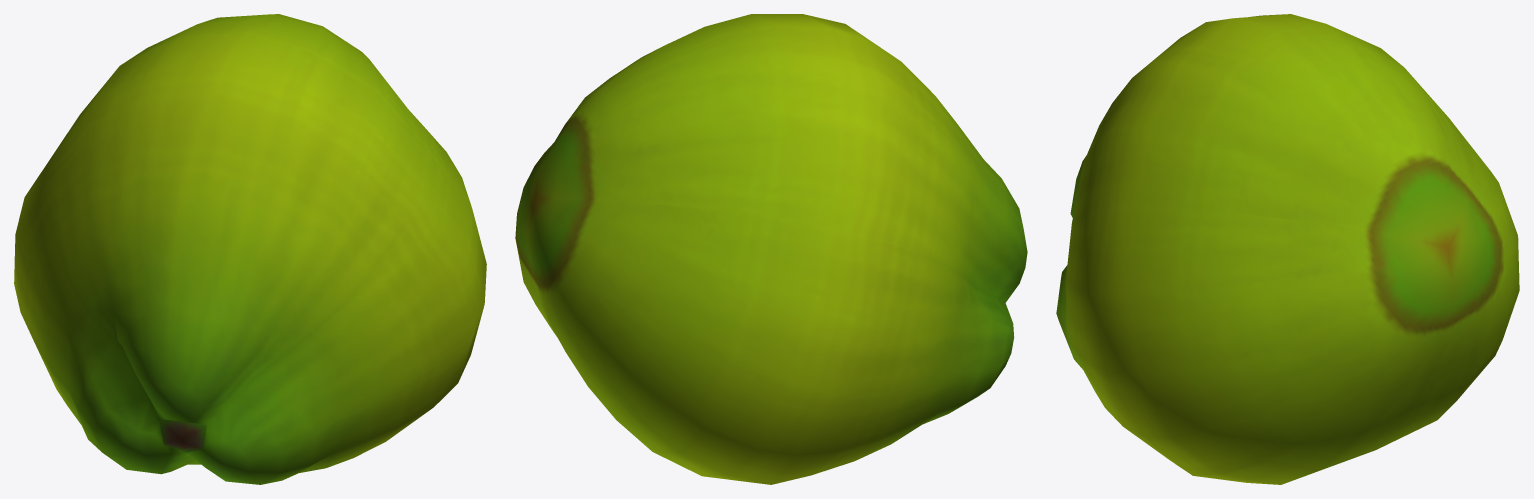
The model's file is coconut.glb.
3 renders of one model, left to right at view 1: azimuth 30°, elevation 25°; view 2: azimuth 150°, elevation 25°; view 3: azimuth 270°, elevation 25°, orthographic.
Visible parts, largest first — view 1: pSphere26__mUnitIconPltFruitCoconut01; view 2: pSphere26__mUnitIconPltFruitCoconut01; view 3: pSphere26__mUnitIconPltFruitCoconut01.
Part boxes in pixels (left/top/right/bottom): pSphere26__mUnitIconPltFruitCoconut01: left=14, top=14, right=486, bottom=484; pSphere26__mUnitIconPltFruitCoconut01: left=515, top=14, right=1027, bottom=484; pSphere26__mUnitIconPltFruitCoconut01: left=1056, top=14, right=1519, bottom=484.
Size of the model in its own units: 0.4488 by 0.448 by 0.4488.
1 material, 1 textured.
